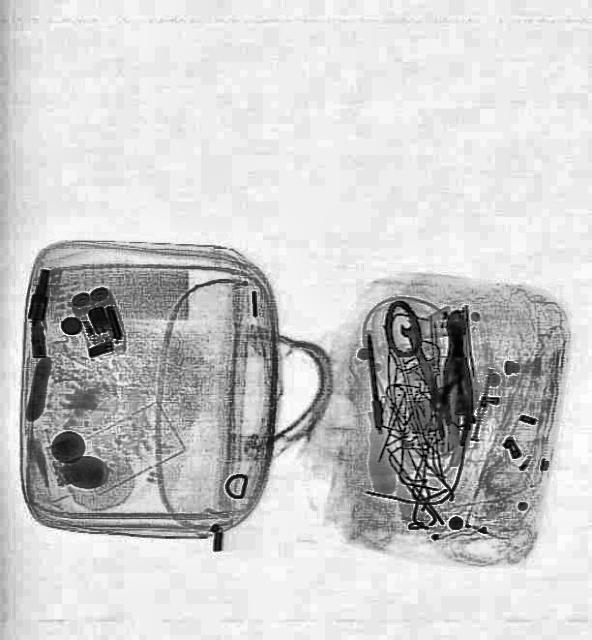Pliers: (440, 307, 472, 421)
Wrench: (398, 317, 446, 411)
